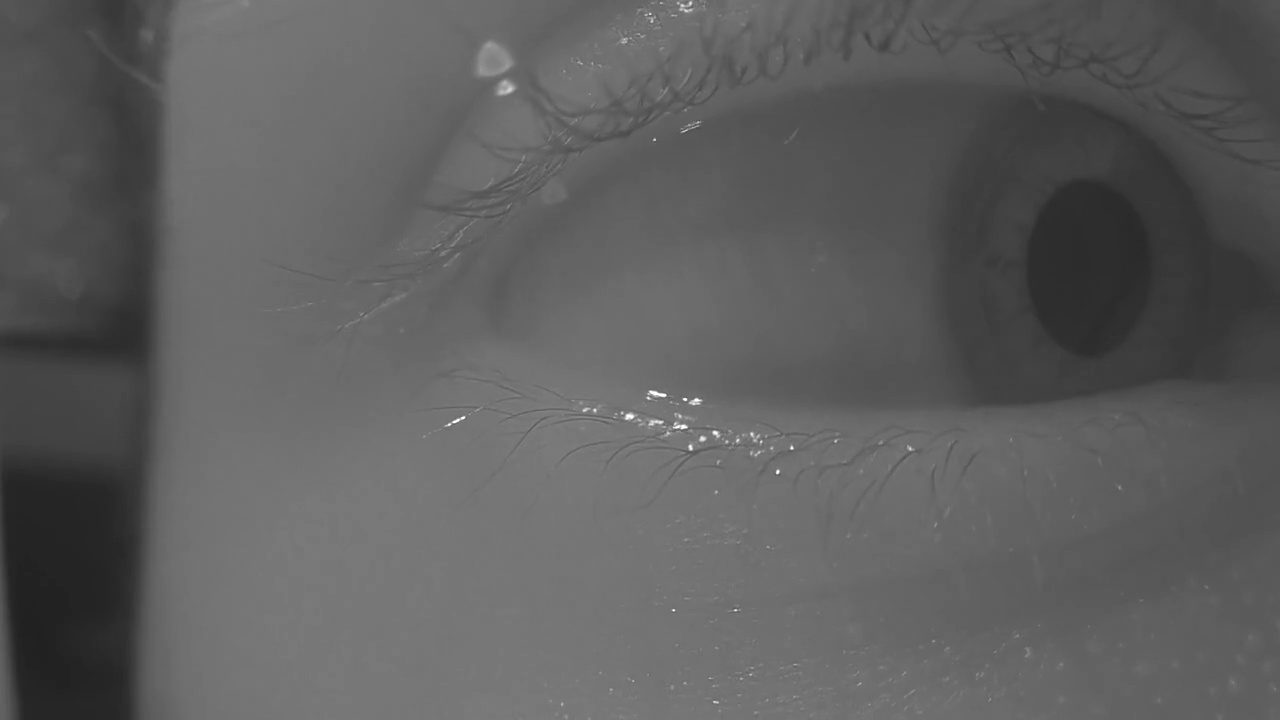pupil: (1027, 180, 1148, 356)
